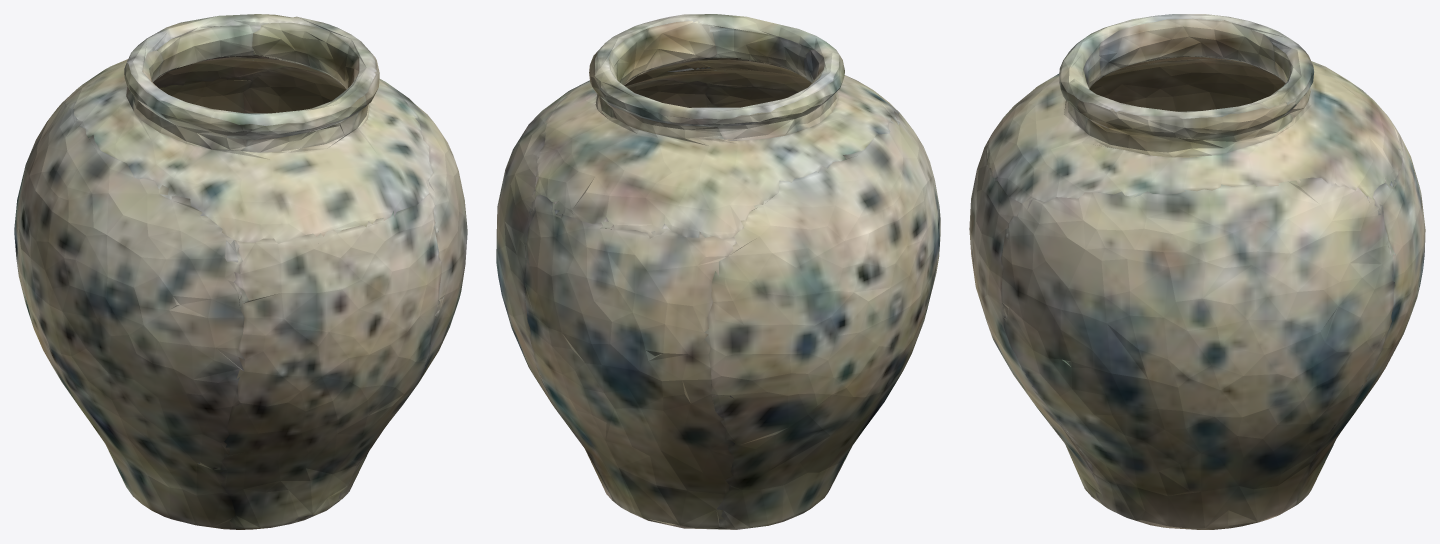
The model's file is hm-earthenware-pot-blue-speckle.lod1.glb.
The picture shows the model from 3 angles, left to right: view 1: azimuth 30°, elevation 25°; view 2: azimuth 150°, elevation 25°; view 3: azimuth 270°, elevation 25°; orthographic projection.
Visible parts, largest first — view 1: Object_2; view 2: Object_2; view 3: Object_2.
Boxes of the visible parts, box(x1,y1,x2,y2) form: Object_2: box(14, 14, 467, 529); Object_2: box(496, 14, 940, 529); Object_2: box(969, 14, 1425, 529).
Bounding box in the file's own units: 0.1652 × 0.1719 × 0.1676.
Materials: 1 (1 with a texture image).
